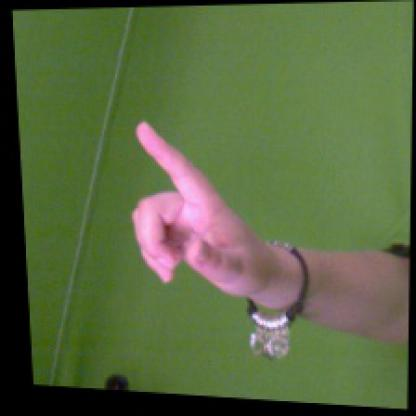Hand: (131, 122, 271, 296)
